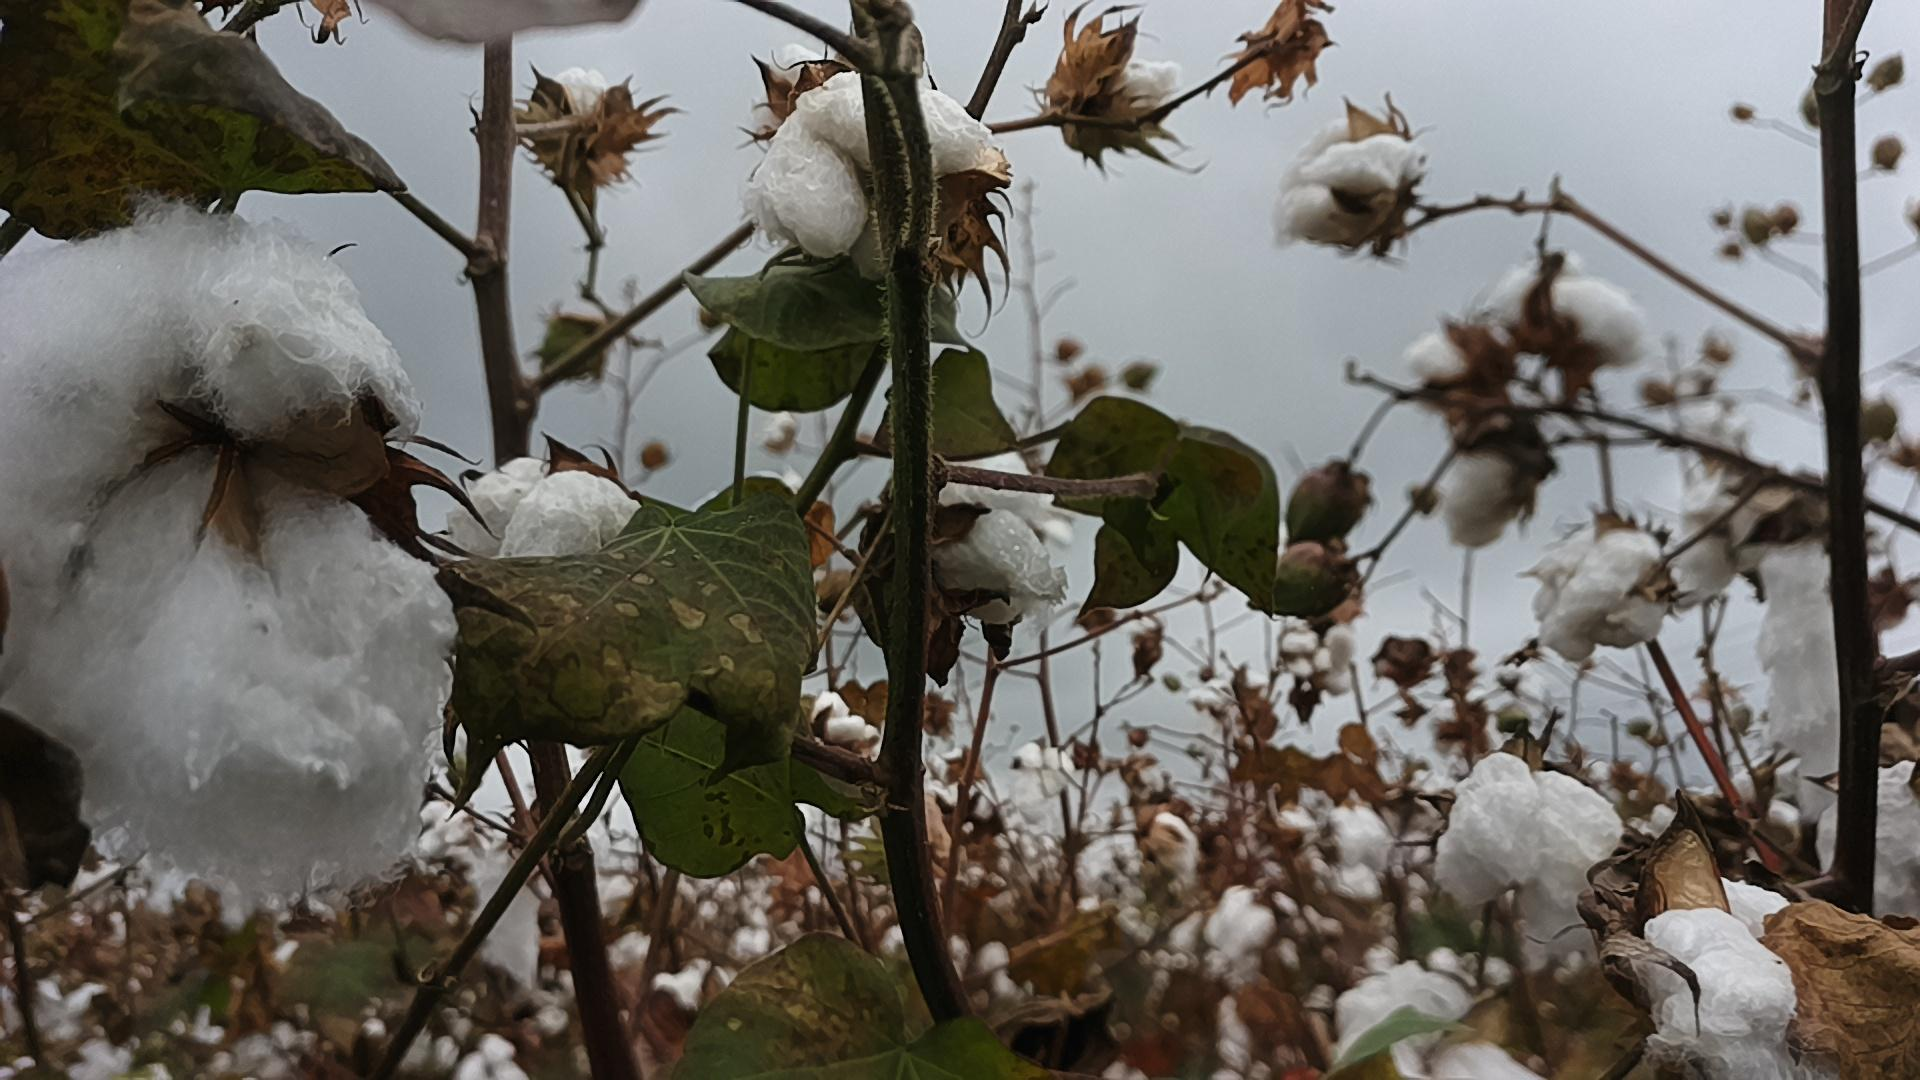cotton_ready: (0, 203, 451, 895), (752, 73, 990, 261), (1642, 876, 1834, 1080), (1437, 758, 1626, 963), (924, 454, 1077, 626), (1755, 516, 1850, 789), (469, 806, 616, 982), (1337, 965, 1540, 1080), (458, 455, 646, 567), (1538, 527, 1663, 669), (1491, 253, 1648, 365), (1820, 756, 1920, 927), (1274, 133, 1418, 251), (1441, 411, 1531, 555), (373, 0, 638, 46), (1680, 480, 1778, 603), (538, 70, 628, 164), (1073, 55, 1185, 123), (1412, 331, 1486, 401)
